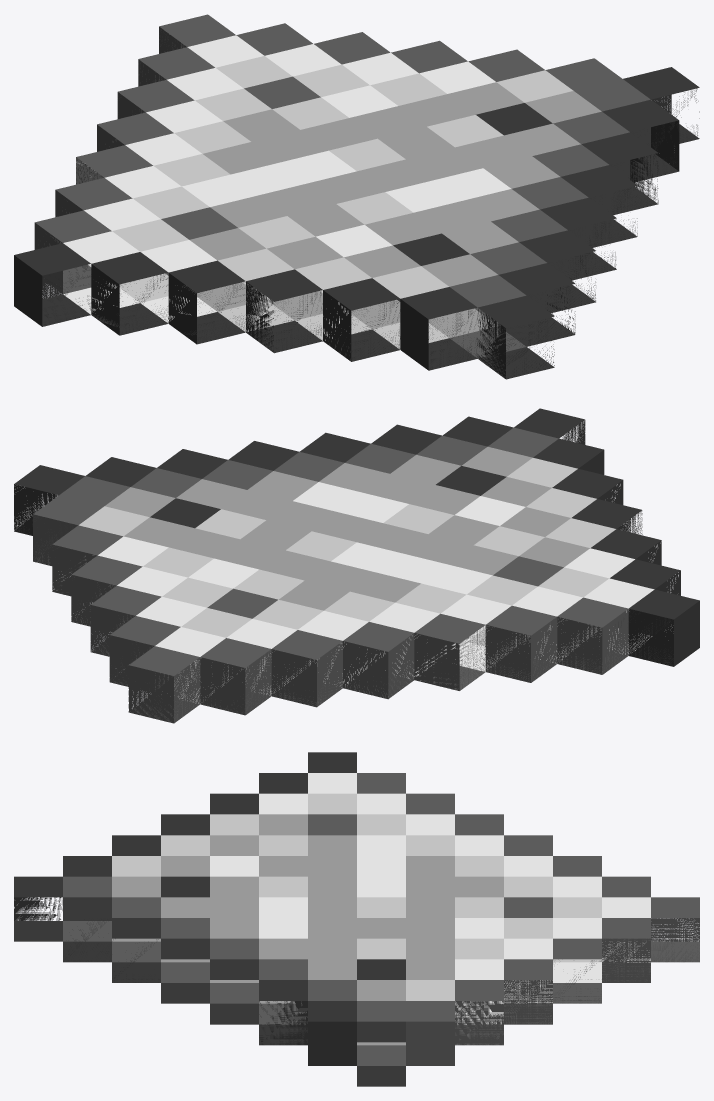
Rendered from iron_plate.fbx.
3 renders of one model, top to bottom at view 1: azimuth 30°, elevation 25°; view 2: azimuth 150°, elevation 25°; view 3: azimuth 270°, elevation 25°, orthographic. The views are drawn at different scales.
Parts seen in each view (by area): view 1: 平面.001; view 2: 平面.001; view 3: 平面.001.
Boxes of the visible parts, x1,y1,x2,y2 form: 平面.001: (14,14,699,379); 平面.001: (14,408,699,723); 平面.001: (14,752,699,1086).
Bounding box in the file's own units: 21.88 × 1.56 × 21.88.
Materials: 1 (1 with a texture image).
